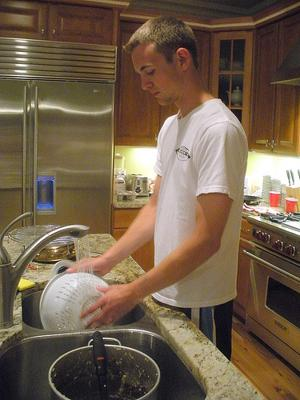person: (66, 14, 250, 365)
